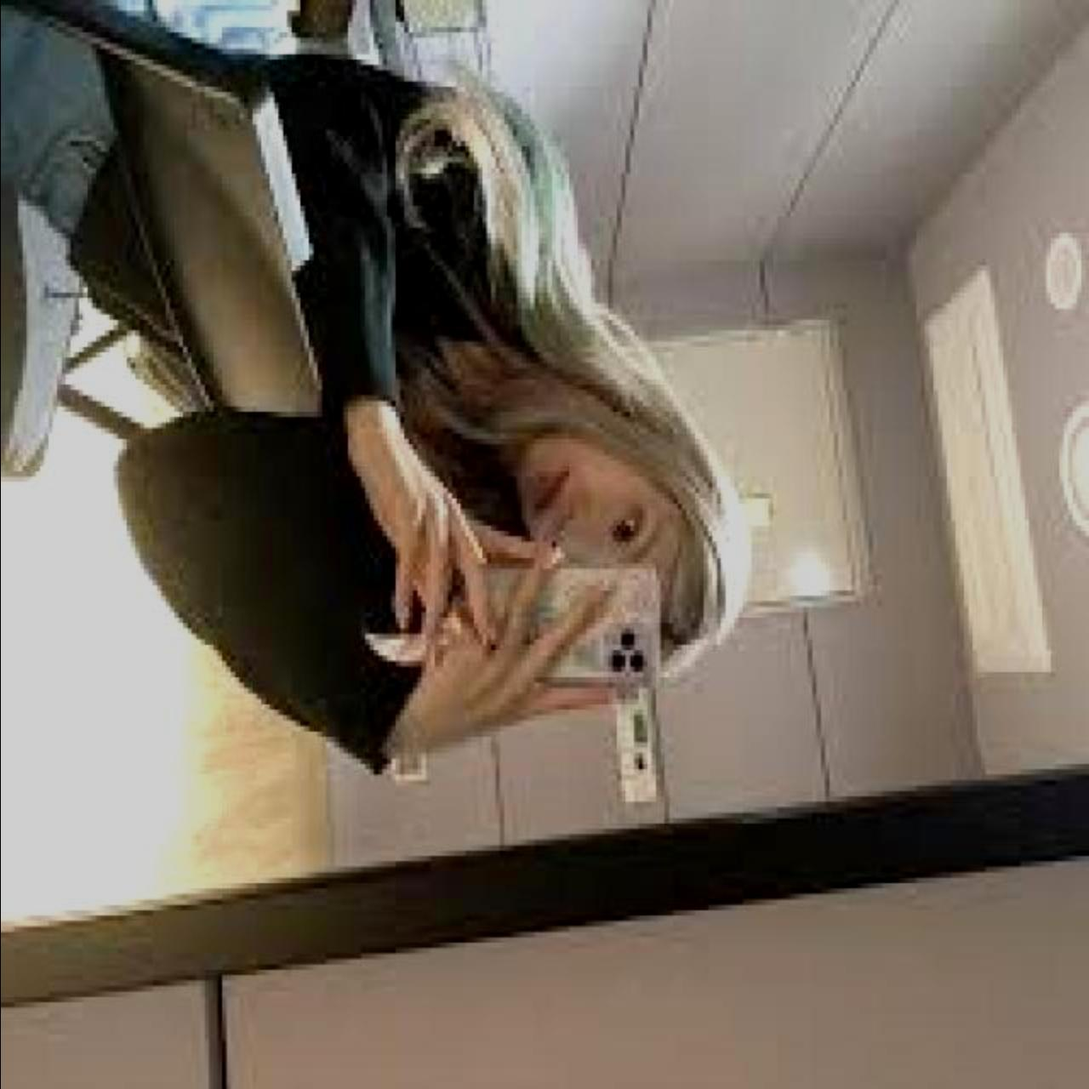phone: (429, 563, 662, 691)
